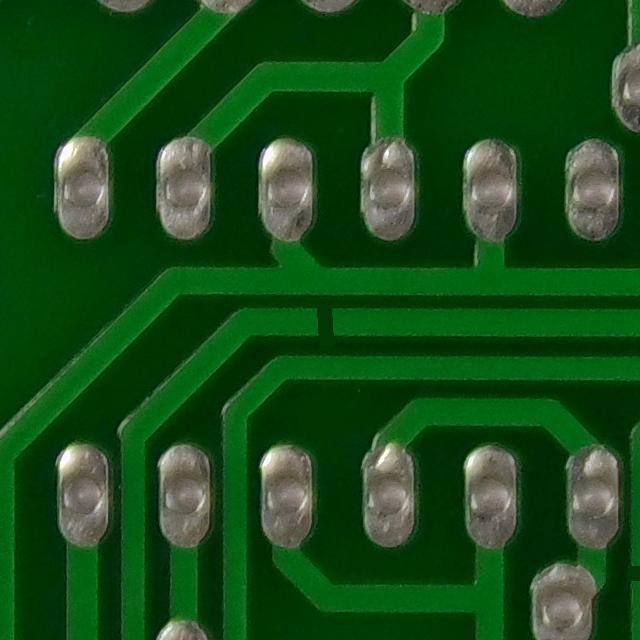open_circuit: (297, 291, 343, 350)
